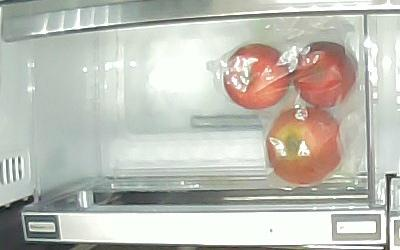apple_vinyl: (265, 108, 343, 184), (225, 44, 291, 110), (293, 41, 357, 108)
